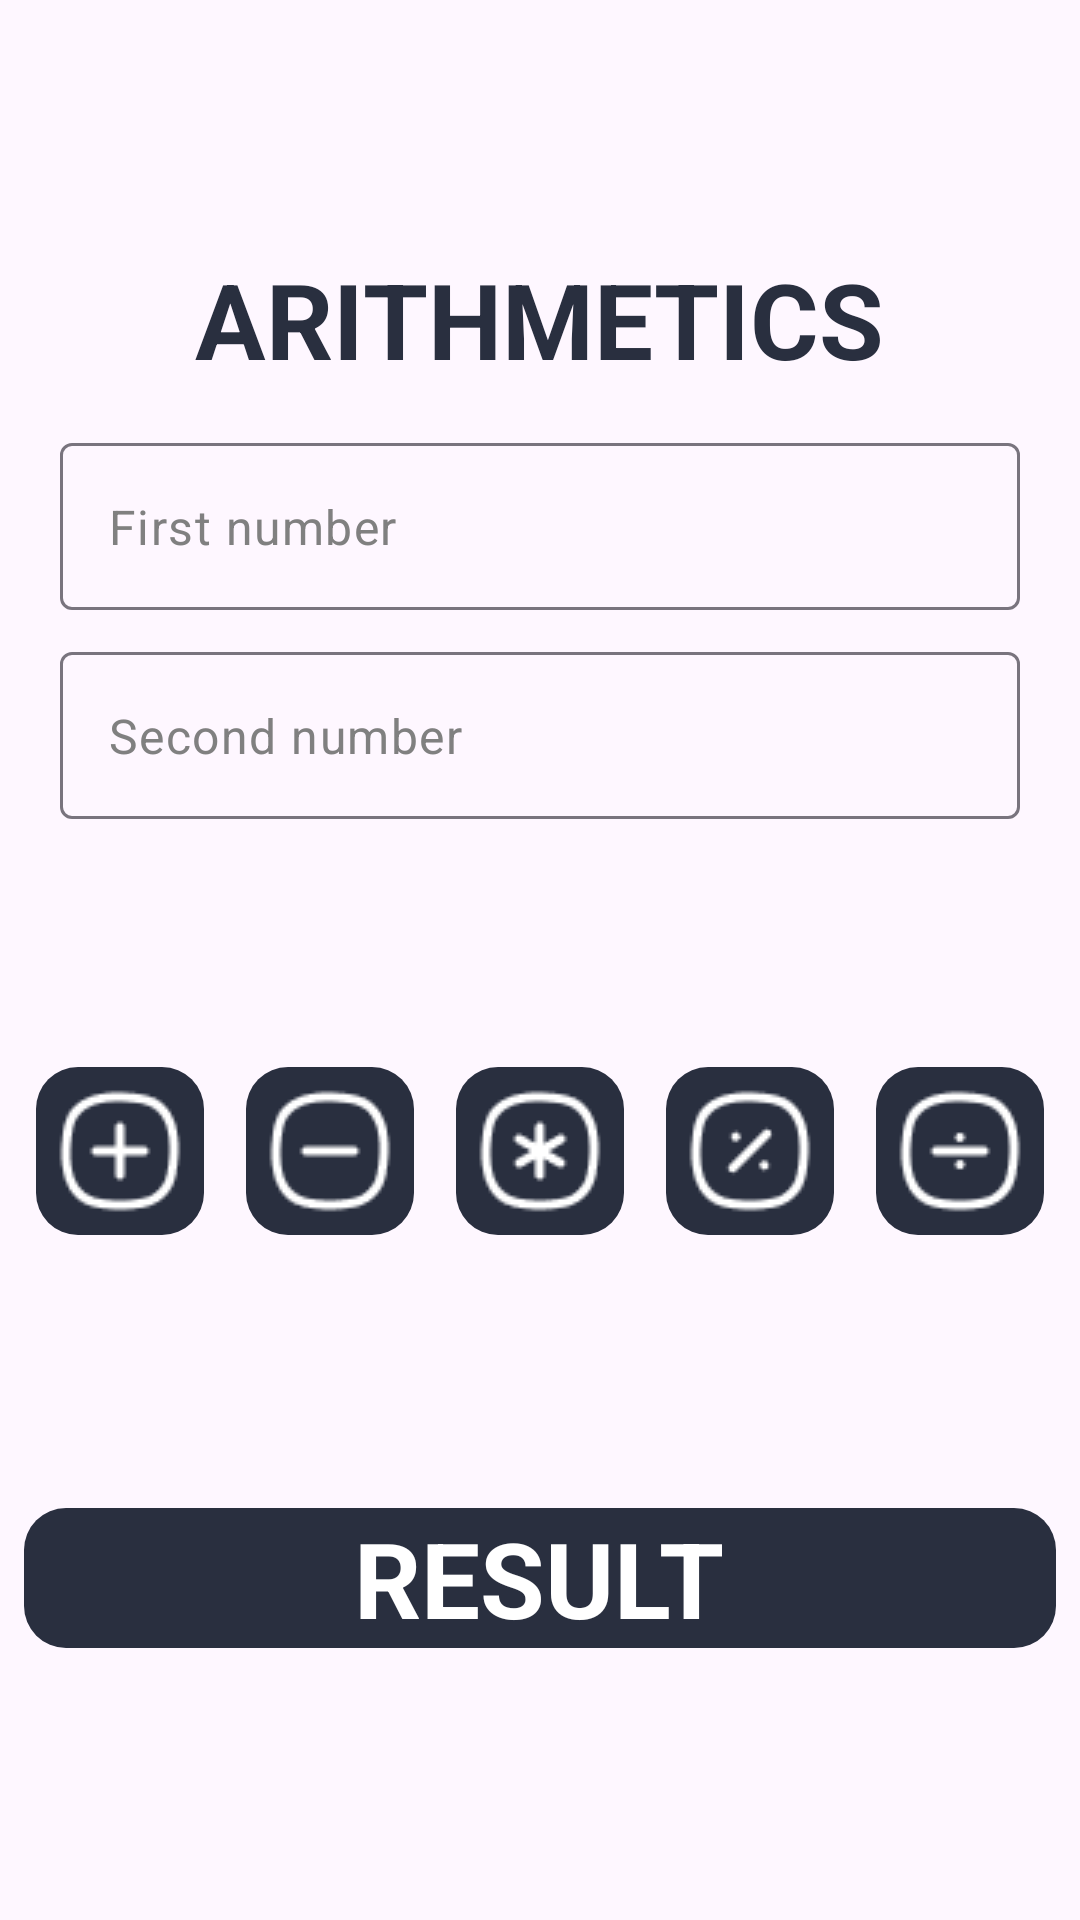

Locate icon controls on the screen. Image size 1080px×1920px, boxes as (x1, y1, x2, y2).
addition box: (36, 1067, 204, 1235)
division box: (876, 1067, 1044, 1235)
modulo box: (666, 1067, 834, 1235)
multiplication box: (456, 1067, 624, 1235)
subtraction box: (246, 1067, 414, 1235)
